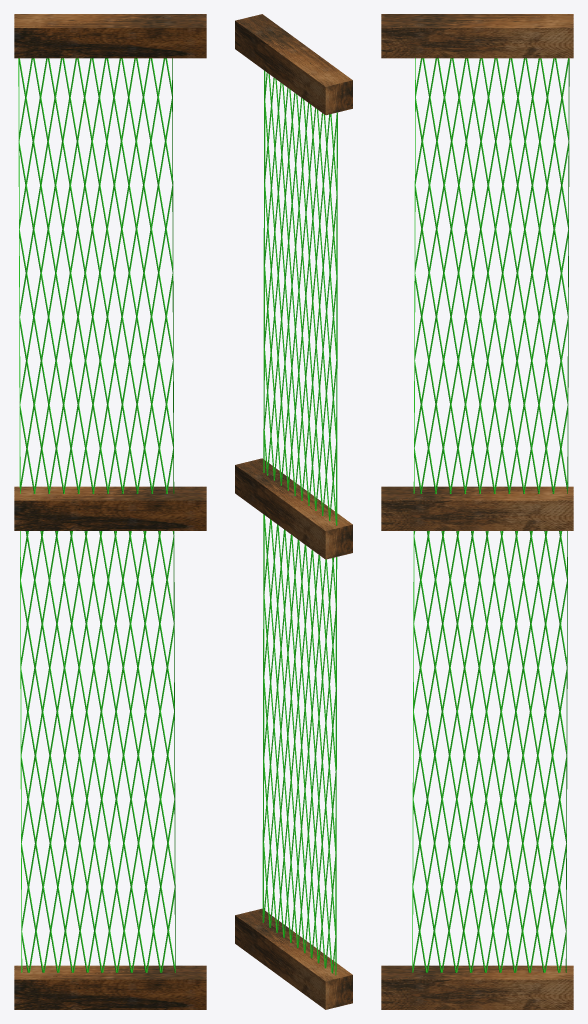
File: tenis_net.dae
3 views of the same model, side by side, from view 1: azimuth 90°, elevation 25°; view 2: azimuth 210°, elevation 25°; view 3: azimuth 270°, elevation 25° (orthographic). The views are drawn at different scales.
Parts seen in each view (by area): view 1: Plane, Cube, Cube.001, Cube.002; view 2: Plane, Cube, Cube.001, Cube.002; view 3: Plane, Cube, Cube.001, Cube.002.
Part boxes in pixels (bbox=[...]): Plane: bbox=[18, 58, 175, 972]; Cube: bbox=[14, 14, 206, 58]; Cube.001: bbox=[14, 486, 206, 530]; Cube.002: bbox=[14, 965, 206, 1009]; Plane: bbox=[262, 70, 337, 975]; Cube: bbox=[235, 14, 352, 115]; Cube.001: bbox=[235, 458, 352, 559]; Cube.002: bbox=[235, 908, 352, 1009]; Plane: bbox=[412, 58, 569, 972]; Cube: bbox=[381, 14, 573, 58]; Cube.001: bbox=[381, 486, 573, 530]; Cube.002: bbox=[381, 965, 573, 1009].
Bounding box in the file's own units: 2 × 11.5 × 64.73.
4 materials, 4 textured.
